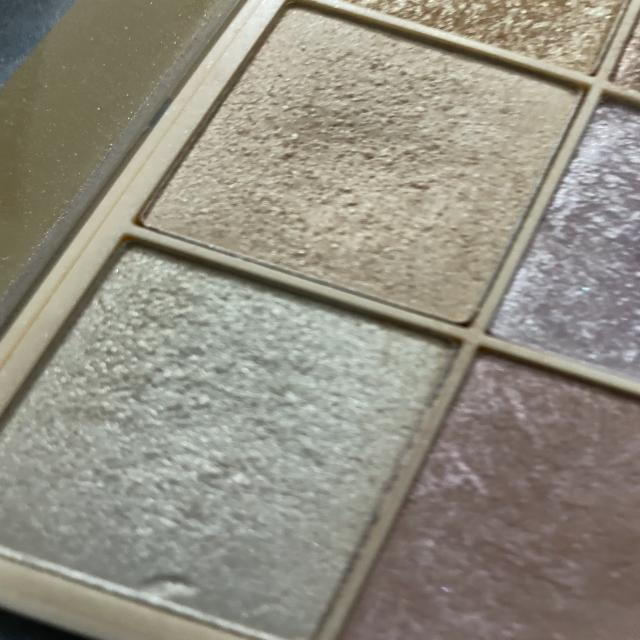highlighter: (0, 218, 460, 640), (132, 0, 596, 325), (301, 338, 640, 640), (474, 81, 640, 394), (274, 0, 634, 84)
